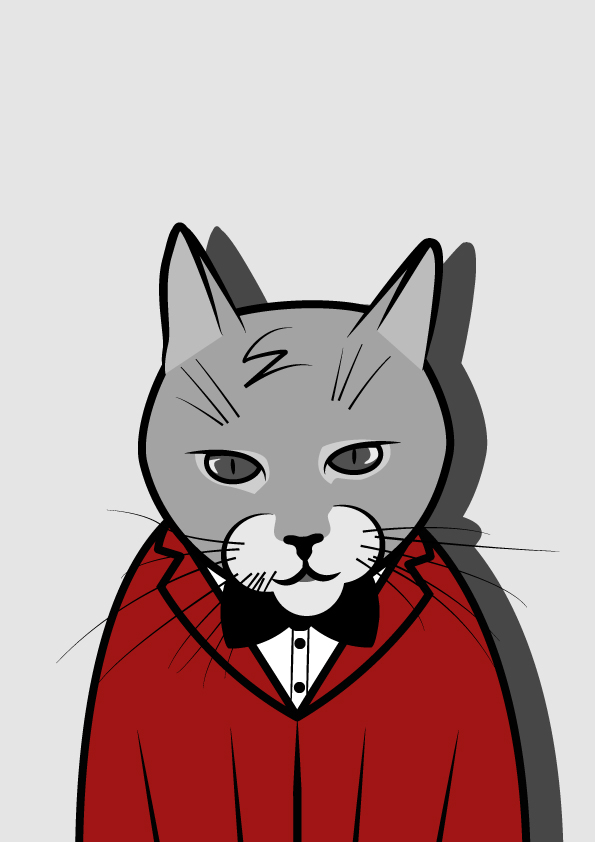cat: (52, 205, 542, 842)
